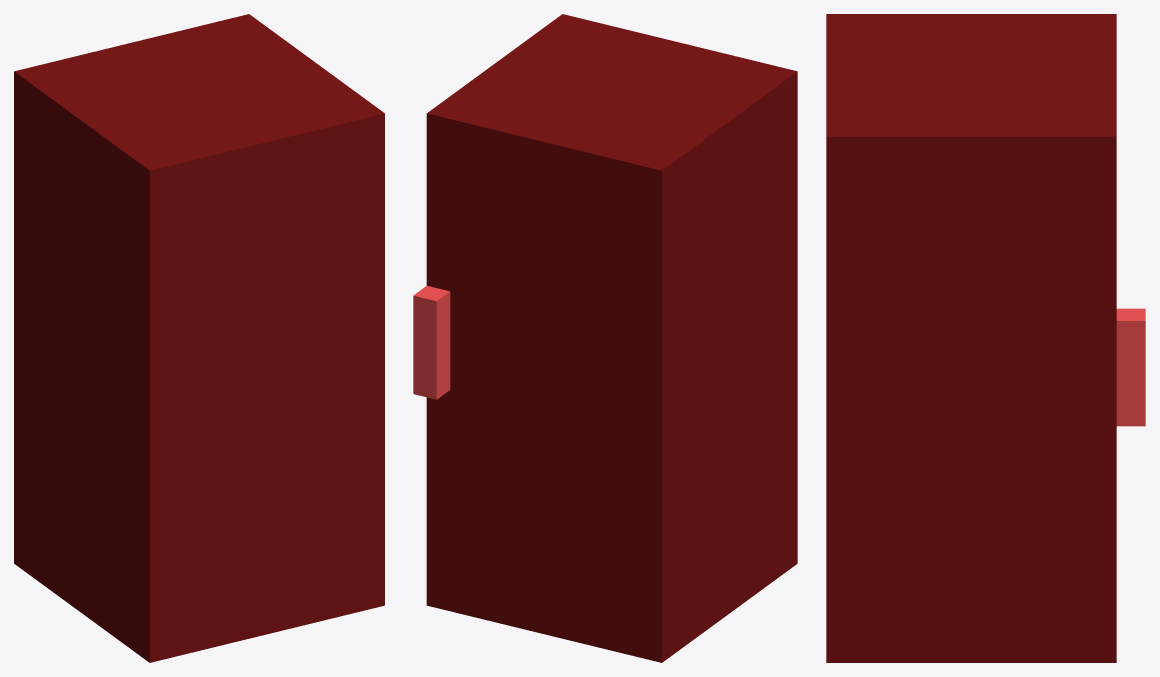
File: Fridge.fbx
3 renders of one model, left to right at view 1: azimuth 30°, elevation 25°; view 2: azimuth 150°, elevation 25°; view 3: azimuth 270°, elevation 25°, orthographic. The views are drawn at different scales.
Visible parts, largest first — view 1: block_default_2, block_default_0; view 2: block_default_2, block_default_0, block_default_3; view 3: block_default_2, block_default_0, block_default_3.
Part boxes in pixels (x1,y1,x2,y2): block_default_2: (14,14,384,416); block_default_0: (14,318,384,662); block_default_2: (426,14,797,416); block_default_0: (426,318,797,662); block_default_3: (413,286,450,399); block_default_2: (826,14,1116,399); block_default_0: (826,400,1116,662); block_default_3: (1116,308,1145,426).
Bounding box in the file's own units: 10 × 20 × 11.
